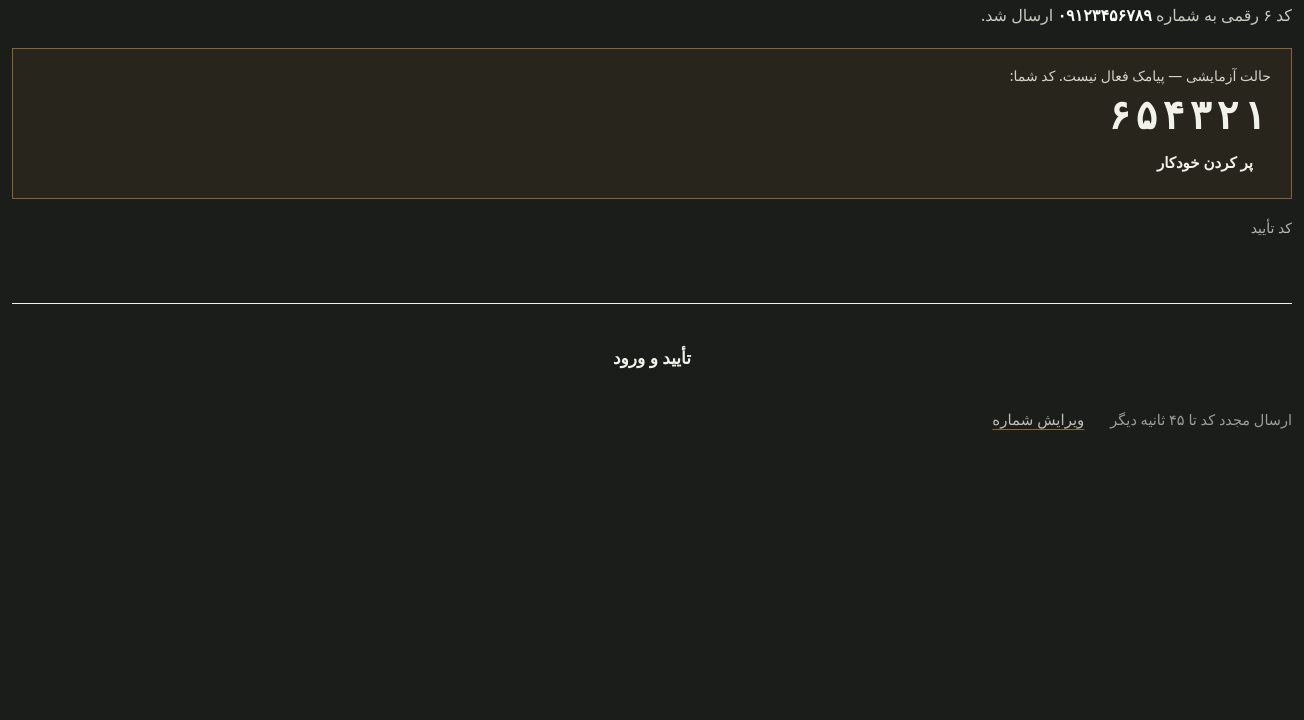
Test case: OtpVerify › shows the exact server message for an expired code
The width and height of the screenshot is (1304, 720).
Step 1. Type "123456" into the field named "کد تأیید ۶ رقمی" → (652, 274), box x1=12 y1=244 x2=1292 y2=304
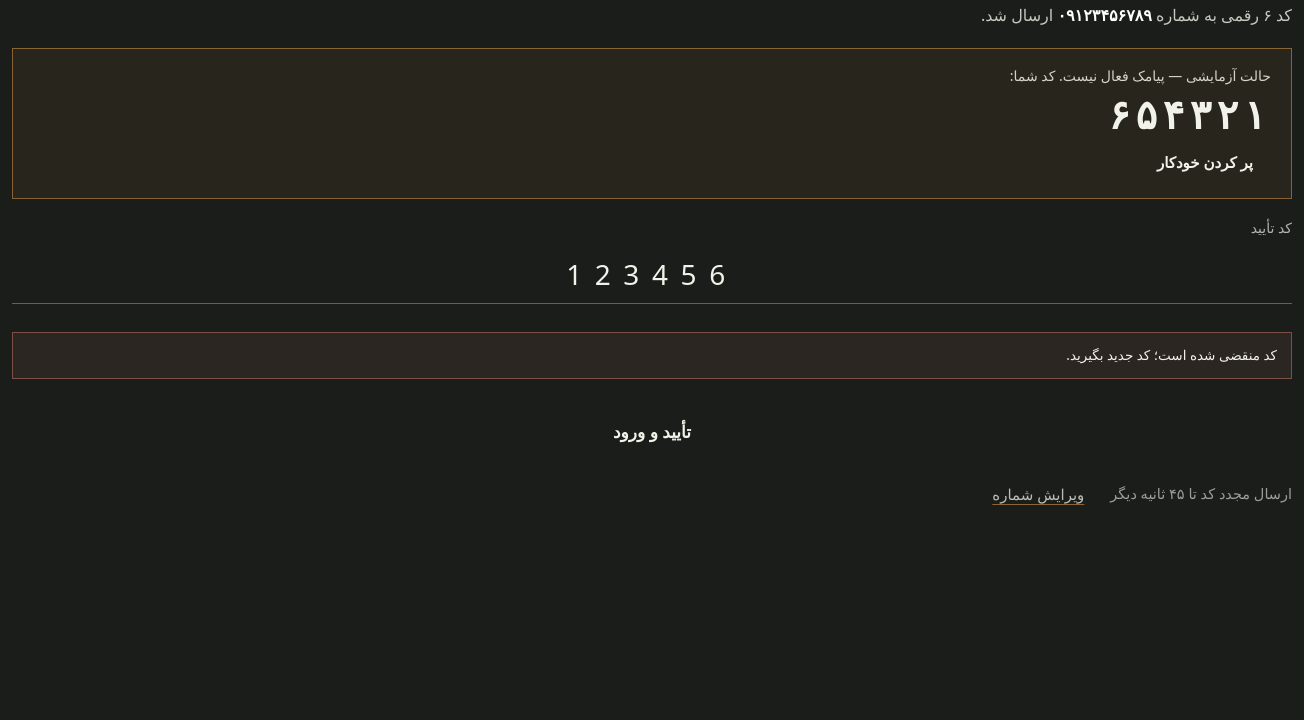
Expected: the text "کد منقضی شده است؛ کد جدید بگیرید." is shown, x1=12 y1=332 x2=1292 y2=379
